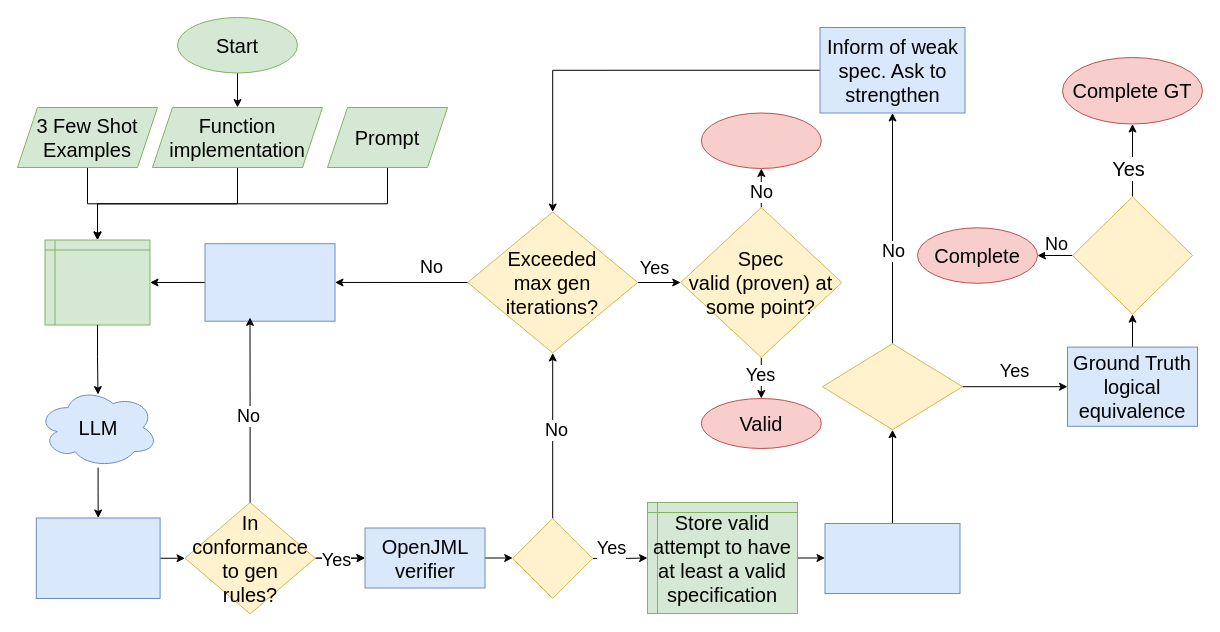
Image size: 1220x632. Some labels were removed from this diagram. Each missing label, with the centre of its shape:
"Complete?" belongs at point (892, 386).
"Completeness Check" belongs at point (892, 558).
"Equivalent?" belongs at point (1132, 255).
"Extract annotated function" belongs at point (97, 557).
"Failure" belongs at point (760, 140).
"Message History" belongs at point (97, 282).
"Proven?" belongs at point (552, 558).
"Simple error repair instructions" belongs at point (269, 282).
